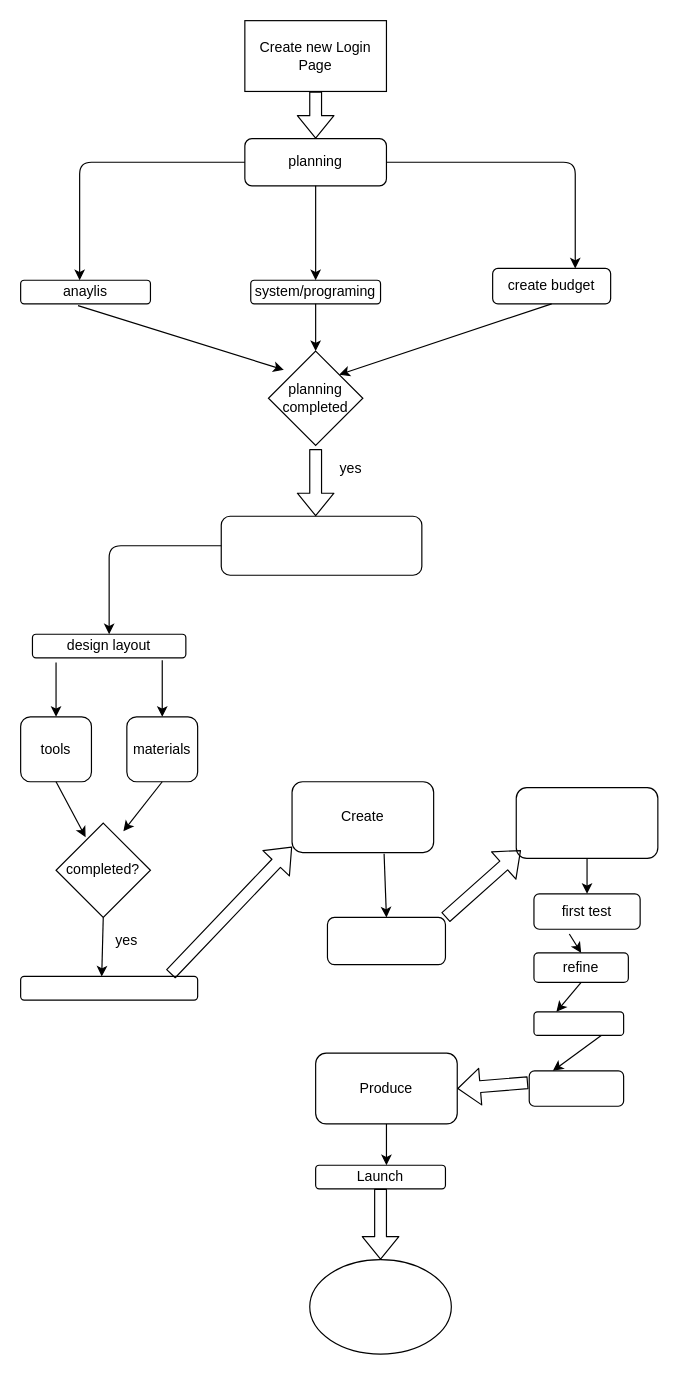
Some shapes in this 679 by 1375 pixel diagram are drawn without their labels. Each missing label, with the box of its shape:
build new login application: (326, 916, 445, 965)
completed: (309, 1258, 451, 1354)
Design: (220, 515, 422, 575)
final test: (533, 1011, 624, 1035)
refine design: (19, 975, 198, 1000)
start training: (528, 1070, 624, 1106)
testing: (515, 786, 658, 858)
